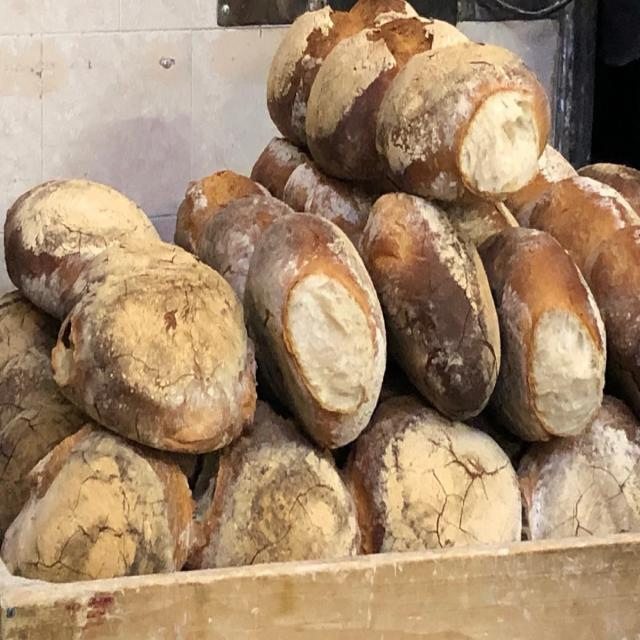Maltese-Bread: (50, 237, 257, 454), (245, 213, 386, 448), (358, 193, 500, 420), (0, 425, 194, 581), (185, 400, 359, 569), (377, 42, 550, 203), (344, 396, 520, 554), (481, 227, 606, 441), (306, 0, 438, 179), (5, 179, 162, 319), (306, 16, 434, 179), (517, 396, 639, 540)
